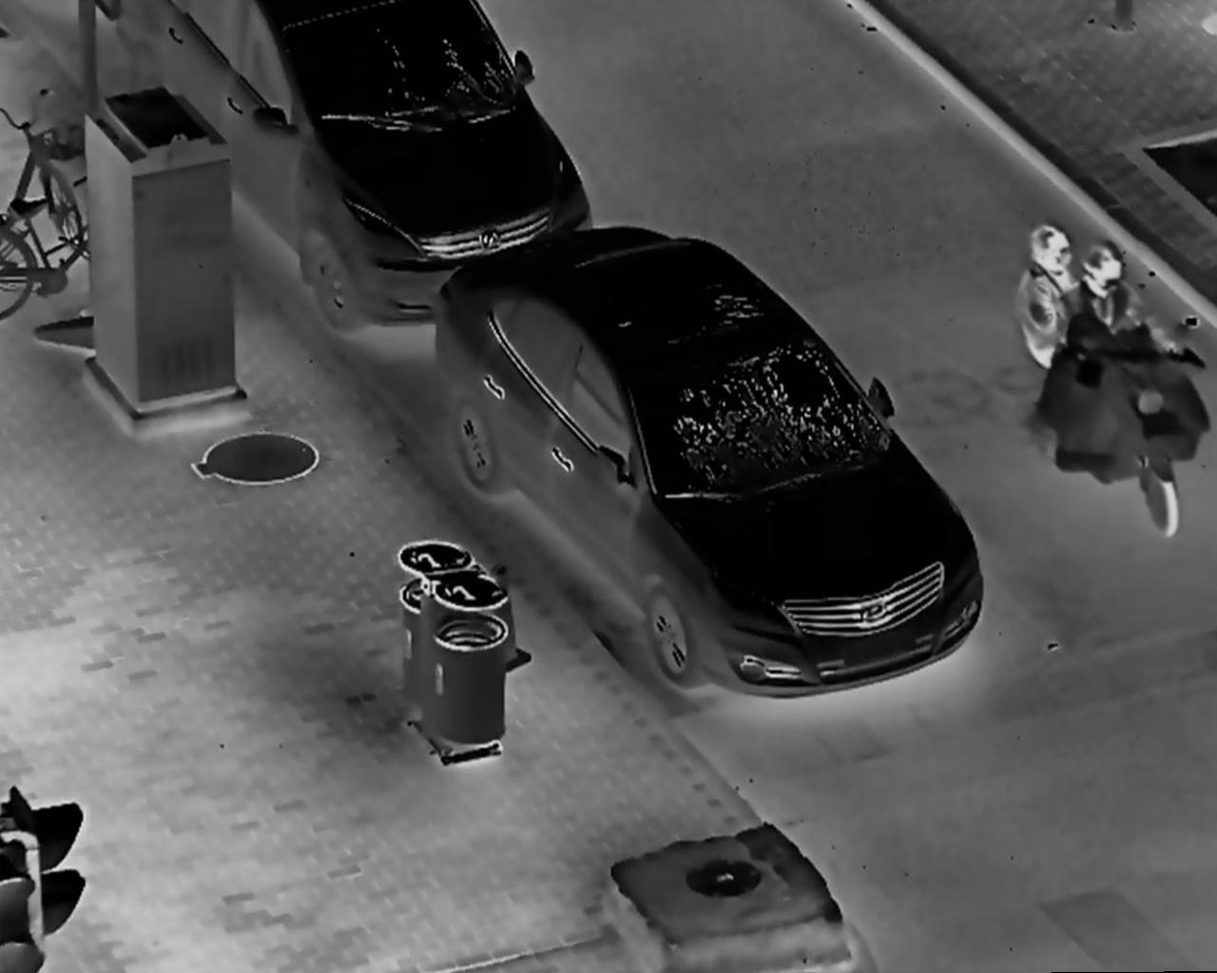person: (1061, 238, 1188, 392), (1014, 220, 1106, 398)
